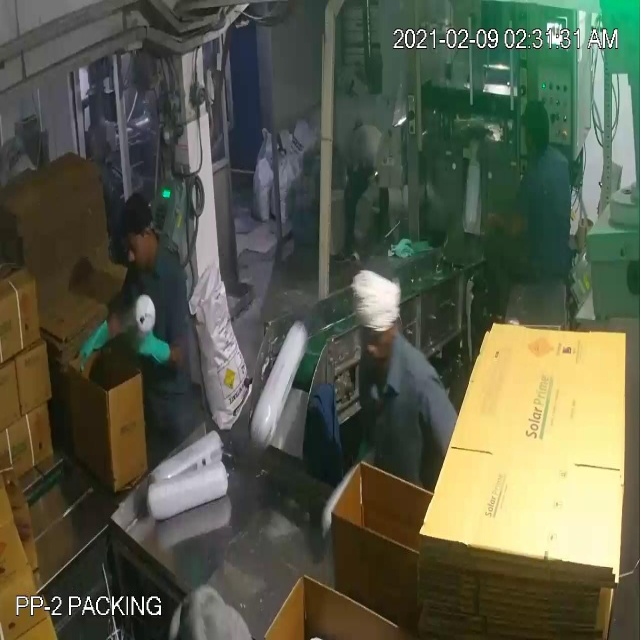Guantes: (63, 311, 120, 371), (128, 308, 176, 372)
Sin_guantes: (476, 190, 541, 248)
